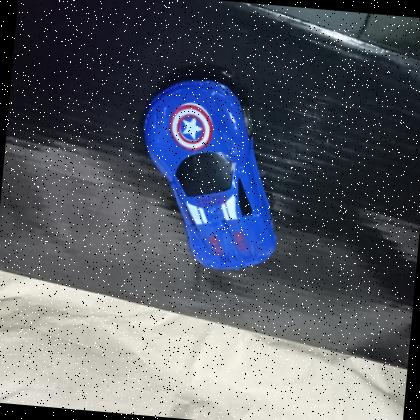Car: (143, 76, 276, 269)
